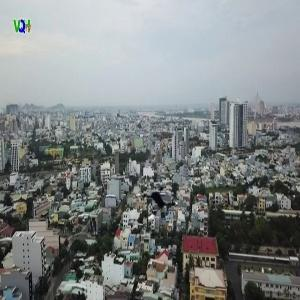drone: (134, 182, 179, 227)
